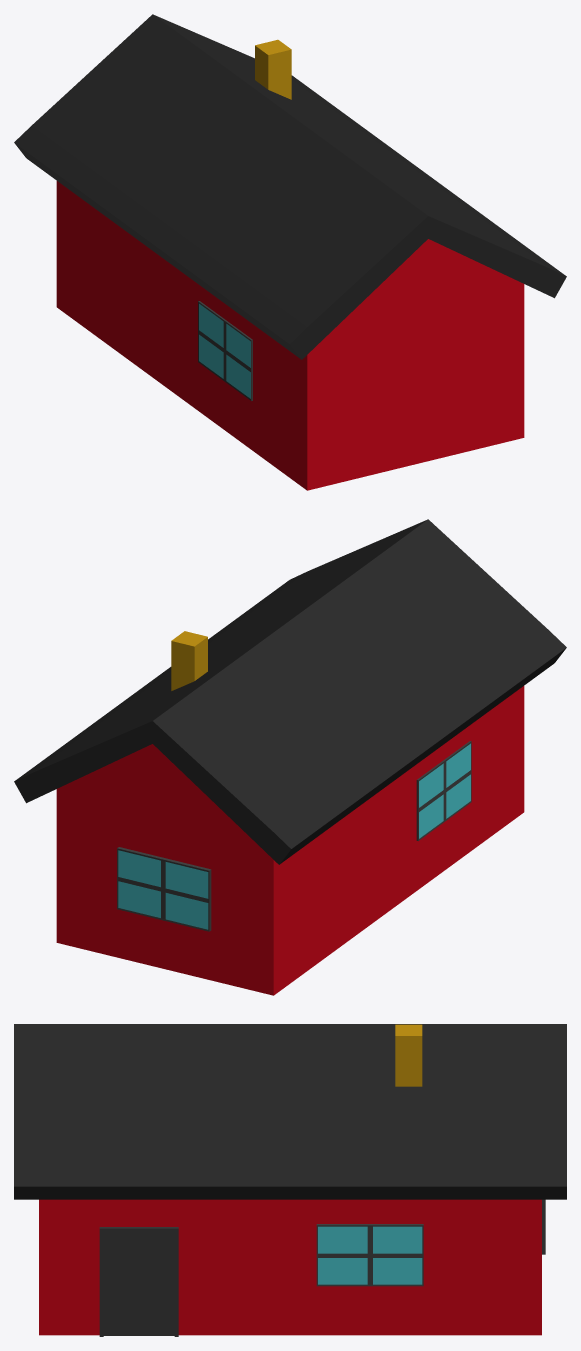
The model's file is PrivateHouse1.fbx.
3 renders of one model, top to bottom at view 1: azimuth 30°, elevation 25°; view 2: azimuth 150°, elevation 25°; view 3: azimuth 270°, elevation 25°, orthographic.
Visible parts, largest first — view 1: Cube, Cube.004, Cube.001; view 2: Cube, Cube.005, Cube.004, Cube.001; view 3: Cube, Cube.002, Cube.003, Cube.001.
Part boxes in pixels (x1,y1,x2,y2): Cube: (14, 14, 566, 490); Cube.004: (198, 301, 252, 400); Cube.001: (255, 39, 291, 99); Cube: (14, 519, 566, 995); Cube.005: (117, 847, 211, 931); Cube.004: (416, 741, 471, 840); Cube.001: (171, 631, 207, 690); Cube: (14, 1024, 566, 1335); Cube.002: (99, 1227, 178, 1336); Cube.003: (316, 1224, 423, 1286); Cube.001: (395, 1024, 422, 1086).
Size of the model in its own units: 1278 by 1196 by 2200.
